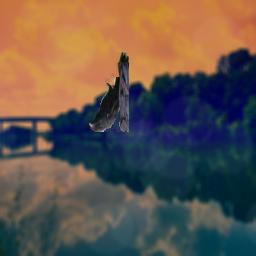Crow: (89, 52, 129, 132)
